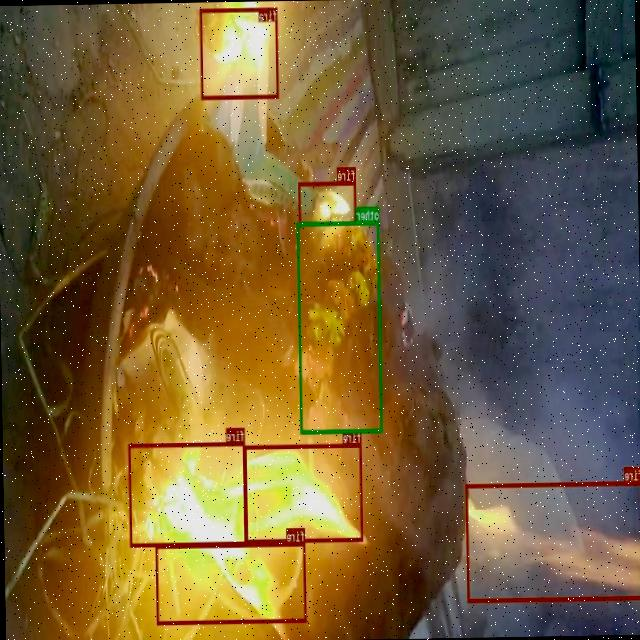fire: (465, 480, 640, 602), (156, 540, 306, 624), (128, 441, 247, 546), (244, 442, 364, 542), (200, 7, 280, 98), (298, 180, 357, 226)
